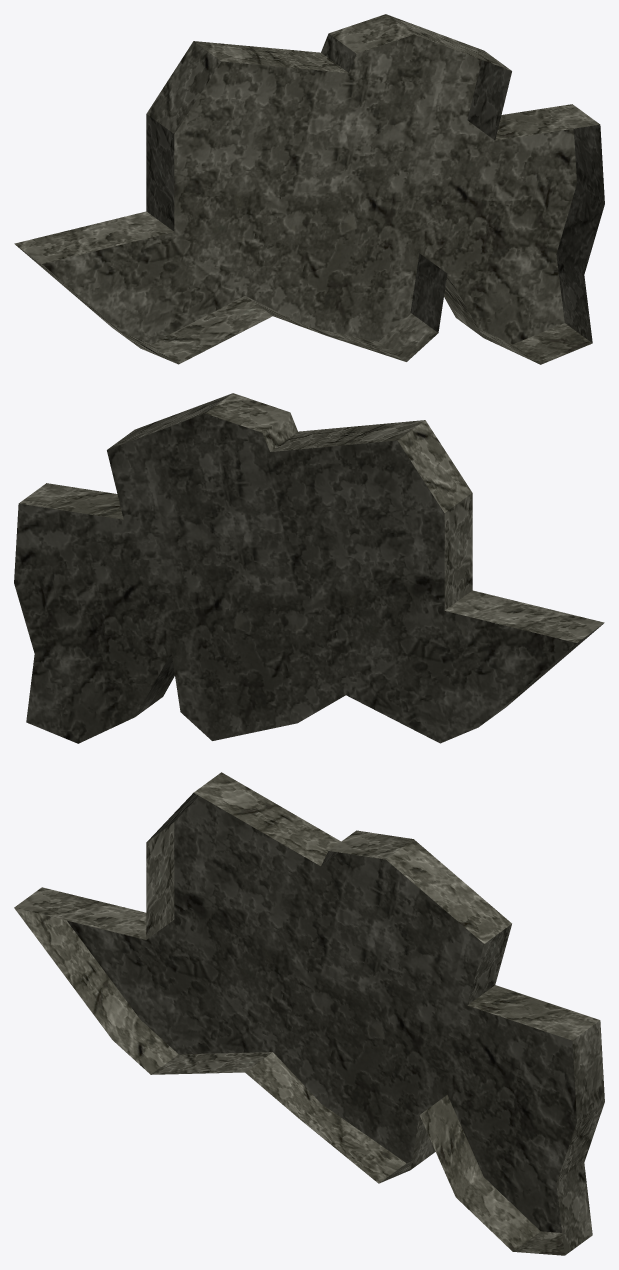
File: TI_Plaster_06.fbx
3 renders of one model, top to bottom at view 1: azimuth 30°, elevation 25°; view 2: azimuth 150°, elevation 25°; view 3: azimuth 330°, elevation 25°, orthographic.
Visible parts, largest first — view 1: TI_Plaster_06; view 2: TI_Plaster_06; view 3: TI_Plaster_06.
Part boxes in pixels (box(x1,y1,x2,y2)): TI_Plaster_06: box(14, 14, 604, 364); TI_Plaster_06: box(14, 393, 604, 743); TI_Plaster_06: box(14, 772, 604, 1255).
Size of the model in its own units: 1.23 by 0.7965 by 0.1059.
